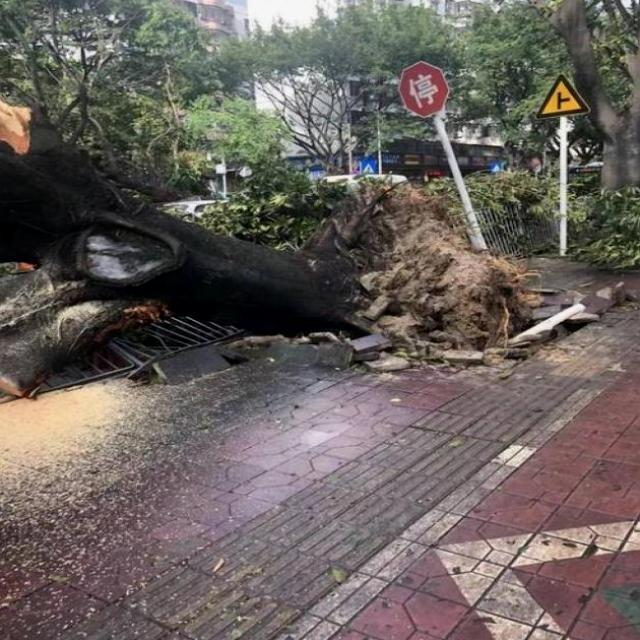fallen_object: (0, 104, 519, 348)
